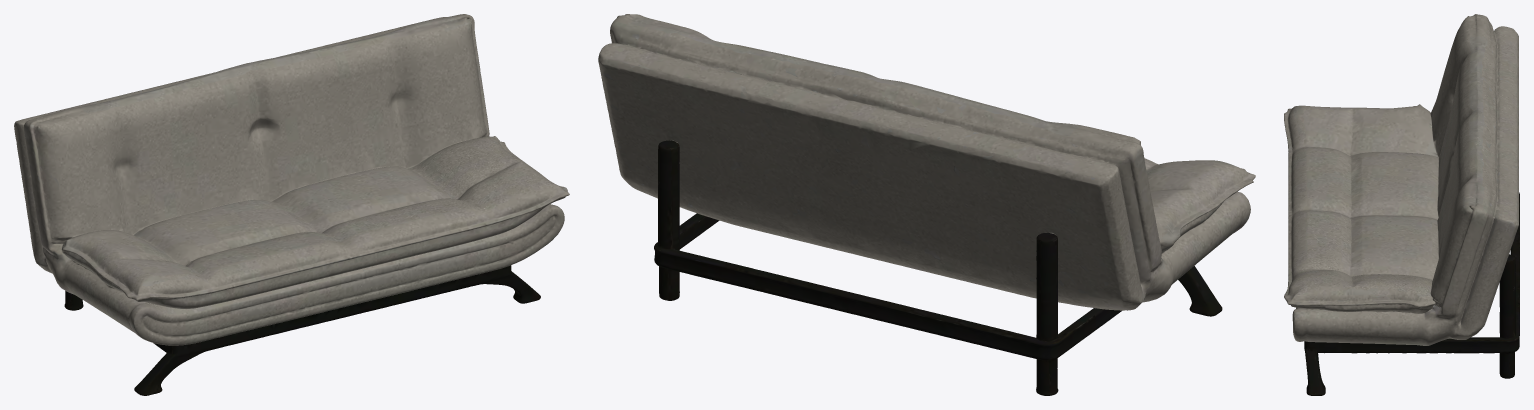
File: hugge-111240-trellis2-q8-pbr.glb
3 views of the same model, side by side, from view 1: azimuth 30°, elevation 25°; view 2: azimuth 150°, elevation 25°; view 3: azimuth 270°, elevation 25° (orthographic). The views are drawn at different scales.
Parts seen in each view (by area): view 1: 0; view 2: 0; view 3: 0.
Part boxes in pixels (x1,y1,x2,y2): 0: (14,14,569,395); 0: (598,14,1255,395); 0: (1284,14,1519,395).
Size of the model in its own units: 1.96 by 0.91 by 0.98.
1 material, 1 textured.
